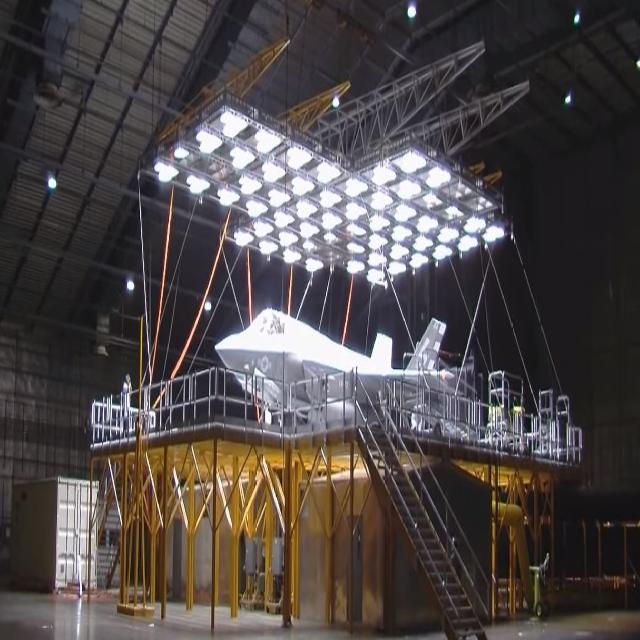MIL_Plane: (214, 307, 463, 433)
